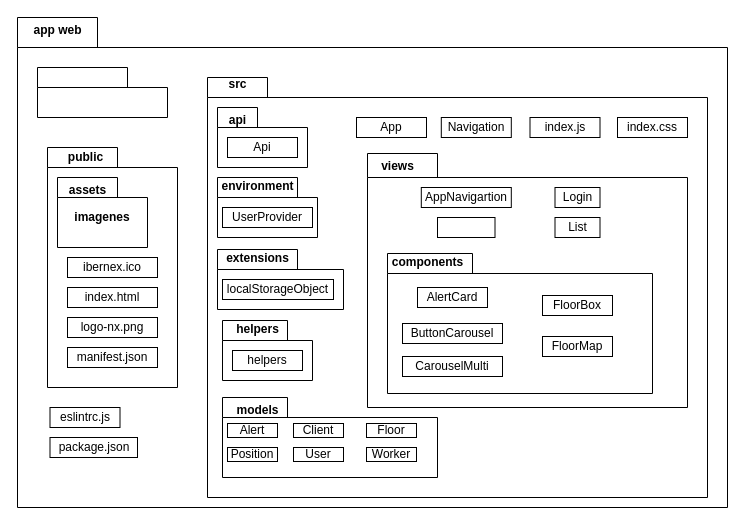
This 745x525 diagram has some shape labels left out. Here are the shapes that lost their labels. From the top down, the centre of each, then its label:
At point 102,92: "node_modules".
At point 465,227: "Map".
